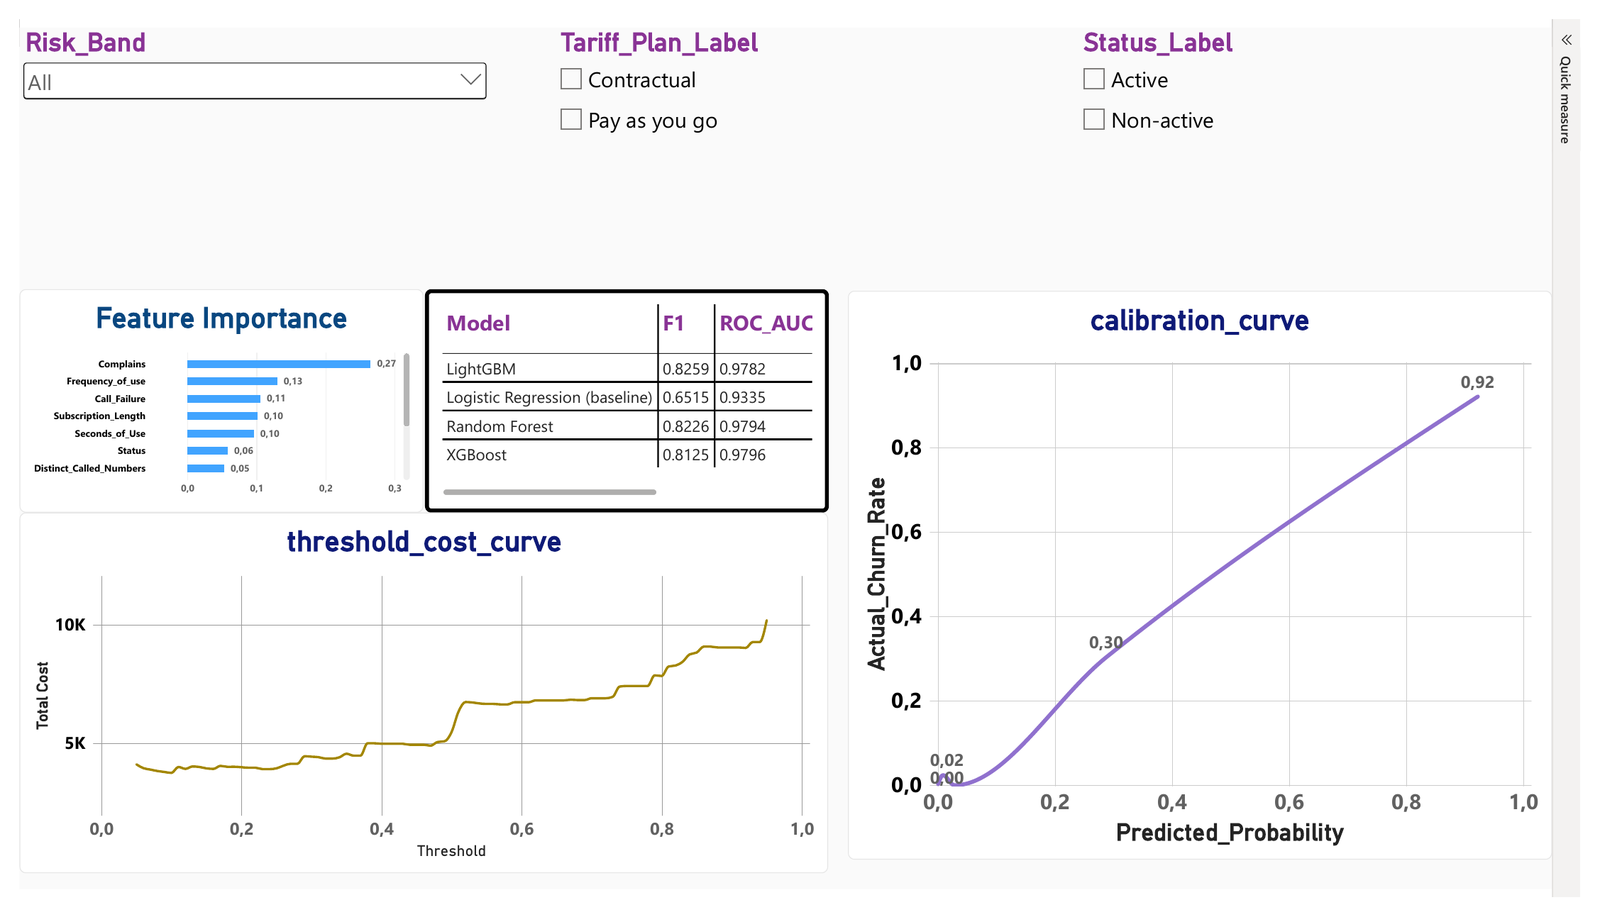

Layout of this report page (visuals, bound fields, positions):
{"tool":"powerbi","page":{"name":"Model Performance","canvas":[1920,1080],"ordinal":3},"visuals":[{"type":"tableEx","fields":{"Values":["model_comparison.Model","model_comparison.F1","model_comparison.ROC_AUC","model_comparison.PR_AUC","model_comparison.Brier_Calibrated"]},"box":[507.5,327.5,506,280],"z":0},{"type":"clusteredBarChart","title":"Feature Importance","fields":{"Category":["feature_importance.Column1"],"Y":["Sum(feature_importance.Column2)"]},"box":[0,327.5,506,280],"z":1},{"type":"lineChart","title":"threshold_cost_curve","fields":{"Category":["threshold_cost_curve.Threshold"],"Y":["Sum(threshold_cost_curve.Total_Cost)"]},"box":[0,607.5,1012.5,452.5],"z":2},{"type":"lineChart","title":"calibration_curve","fields":{"Category":["calibration_curve.Column1"],"Y":["Sum(calibration_curve.Column2)"]},"box":[1037.5,330,882.5,712.5],"z":3},{"type":"slicer","fields":{"Values":["churn_scored.Status_Label"]},"box":[1325,0,596,160],"z":4},{"type":"slicer","fields":{"Values":["churn_scored.Tariff_Plan_Label"]},"box":[670,0,580,160],"z":5},{"type":"slicer","fields":{"Values":["churn_scored.Risk_Band"]},"box":[0,0,590,125],"z":6}]}

Visuals, with their boxes on the page's 1920x1080 design canvas (x1, y1, x2, y2). These are canvas units, not pixel positions in the 1600x917 screenshot, which may show the page scaled, cropped or inside an application window:
tableEx - model_comparison.Model x model_comparison.F1: <region>508, 328, 1014, 608</region>
"Feature Importance" clusteredBarChart: <region>0, 328, 506, 608</region>
"threshold_cost_curve" lineChart: <region>0, 608, 1012, 1060</region>
"calibration_curve" lineChart: <region>1038, 330, 1920, 1042</region>
slicer - churn_scored.Status_Label: <region>1325, 0, 1921, 160</region>
slicer - churn_scored.Tariff_Plan_Label: <region>670, 0, 1250, 160</region>
slicer - churn_scored.Risk_Band: <region>0, 0, 590, 125</region>
